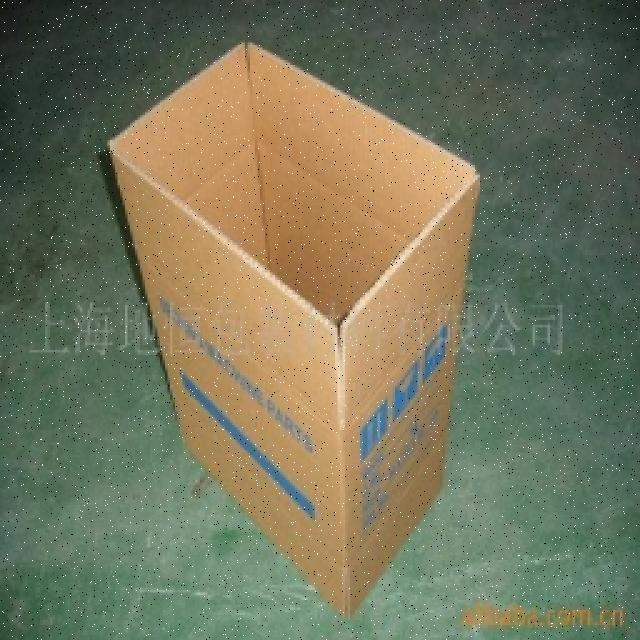box: (78, 48, 486, 611)
